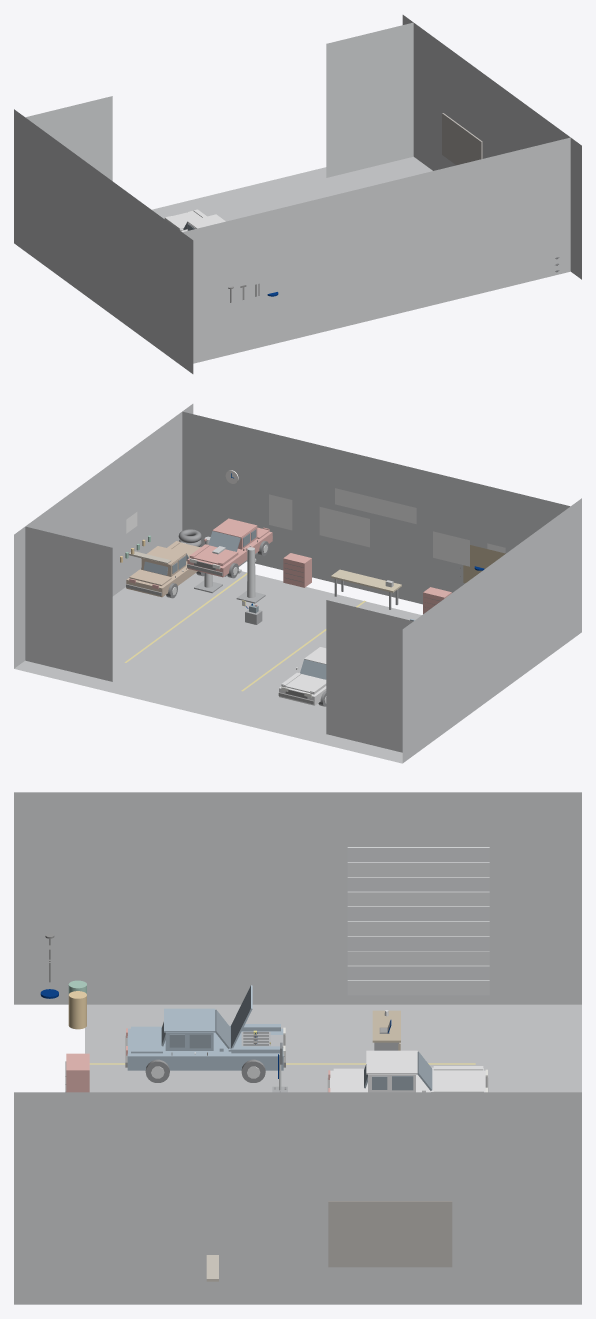
3 renders of one model, top to bottom at view 1: azimuth 30°, elevation 25°; view 2: azimuth 150°, elevation 25°; view 3: azimuth 270°, elevation 25°, orthographic. The views are drawn at different scales.
Bounding box in the file's own units: 21.6 × 6.61 × 16.
